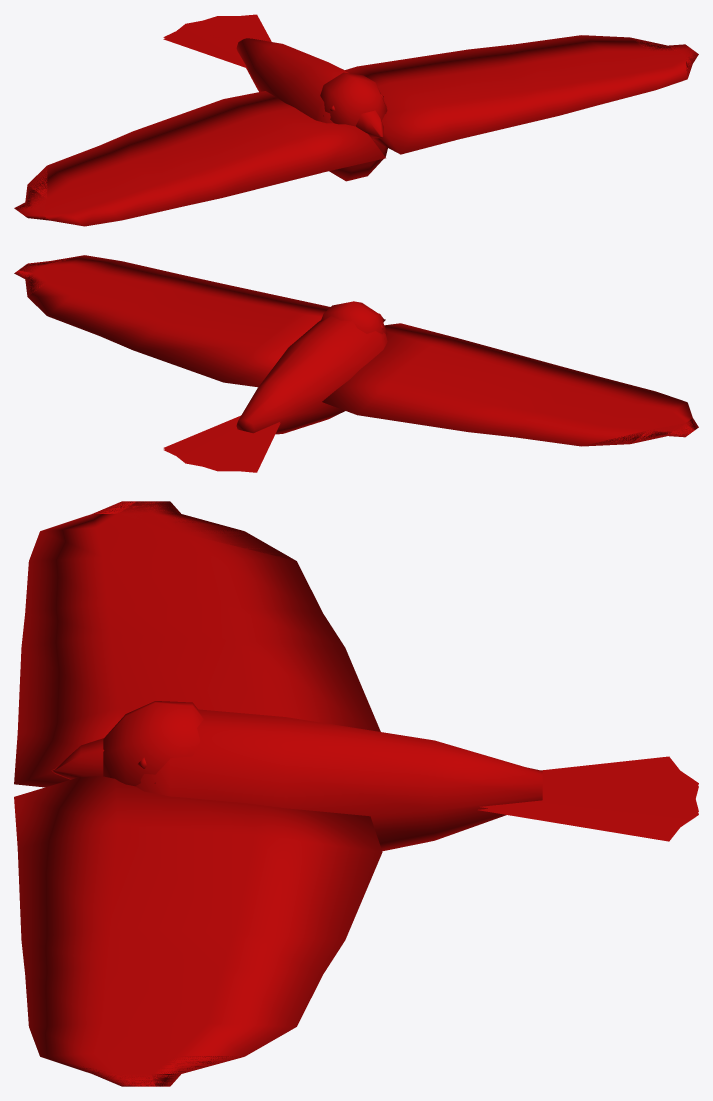
Rendered from owl.glb.
The picture shows the model from 3 angles, top to bottom: view 1: azimuth 30°, elevation 25°; view 2: azimuth 150°, elevation 25°; view 3: azimuth 270°, elevation 25°; orthographic projection. The views are drawn at different scales.
Parts seen in each view (by area): view 1: wing, body; view 2: wing, body; view 3: wing, body.
Boxes of the visible parts, bbox=[...] form: wing: bbox=[14, 35, 698, 226]; body: bbox=[163, 14, 387, 181]; wing: bbox=[14, 255, 698, 446]; body: bbox=[163, 301, 387, 472]; wing: bbox=[14, 501, 382, 1086]; body: bbox=[51, 701, 698, 851].
Bounding box in the file's own units: 1.45 × 0.2031 × 0.7188.
